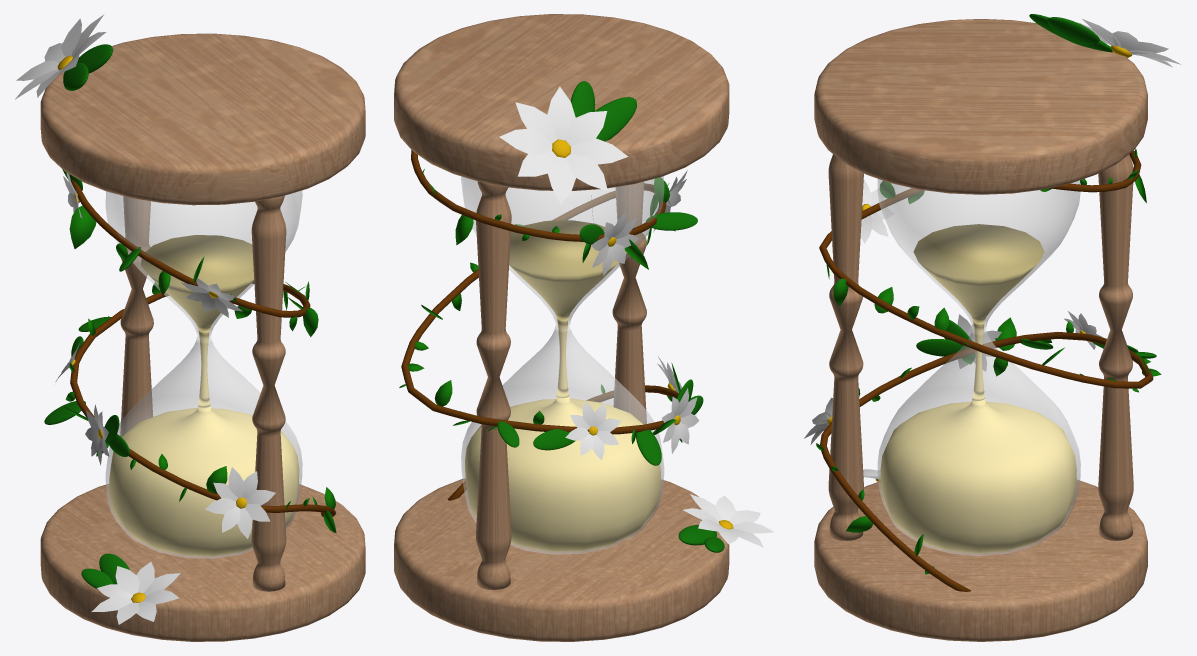
File: reloj_de_arena_completo.glb
3 renders of one model, left to right at view 1: azimuth 30°, elevation 25°; view 2: azimuth 150°, elevation 25°; view 3: azimuth 270°, elevation 25°, orthographic. The views are drawn at different scales.
Visible parts, largest first — view 1: Cylinder.002, Plane, Cylinder, Plane.003, Cylinder.001, Cylinder.003, Sphere, Cylinder.004, Vertex.006, Vertex.004, Vertex.005, Vertex (+1 smaller); view 2: Cylinder.002, Plane, Cylinder, Plane.003, Cylinder.001, Vertex.005, Cylinder.003, Sphere, Cylinder.004, Vertex.006, Vertex.003, Vertex.001 (+1 smaller); view 3: Plane, Cylinder.002, Plane.003, Cylinder, Cylinder.001, Cylinder.003, Cylinder.004, Sphere, Vertex.005, Vertex, Vertex.002.
Boxes of the visible parts, x1,y1,x2,y2 form: Cylinder.002: [40, 33, 365, 205]; Plane: [105, 190, 302, 558]; Cylinder: [40, 484, 365, 641]; Plane.003: [109, 235, 299, 556]; Cylinder.001: [120, 196, 286, 591]; Cylinder.003: [70, 179, 335, 517]; Sphere: [44, 44, 140, 589]; Cylinder.004: [64, 205, 336, 533]; Vertex.006: [91, 561, 180, 624]; Vertex.004: [205, 467, 275, 538]; Vertex.005: [15, 14, 106, 99]; Vertex: [181, 278, 242, 317]; Cylinder.002: [394, 14, 729, 190]; Plane: [461, 176, 664, 554]; Cylinder: [394, 478, 729, 641]; Plane.003: [465, 220, 660, 551]; Cylinder.001: [476, 181, 646, 589]; Vertex.005: [499, 86, 628, 203]; Cylinder.003: [401, 150, 678, 500]; Sphere: [497, 81, 724, 552]; Cylinder.004: [399, 169, 682, 443]; Vertex.006: [683, 494, 774, 547]; Vertex.003: [565, 401, 621, 460]; Vertex.001: [591, 211, 638, 275]; Plane: [877, 179, 1080, 555]; Cylinder.002: [814, 19, 1147, 194]; Plane.003: [880, 224, 1076, 553]; Cylinder: [814, 480, 1147, 641]; Cylinder.001: [828, 154, 1133, 540]; Cylinder.003: [819, 150, 1153, 591]; Cylinder.004: [816, 148, 1161, 574]; Sphere: [916, 14, 1156, 358]; Vertex.005: [1076, 19, 1181, 67]; Vertex: [860, 179, 894, 243]; Vertex.002: [957, 314, 1001, 371].
Size of the model in its own units: 1.33 by 2.23 by 1.44.
15 materials, 10 textured.
